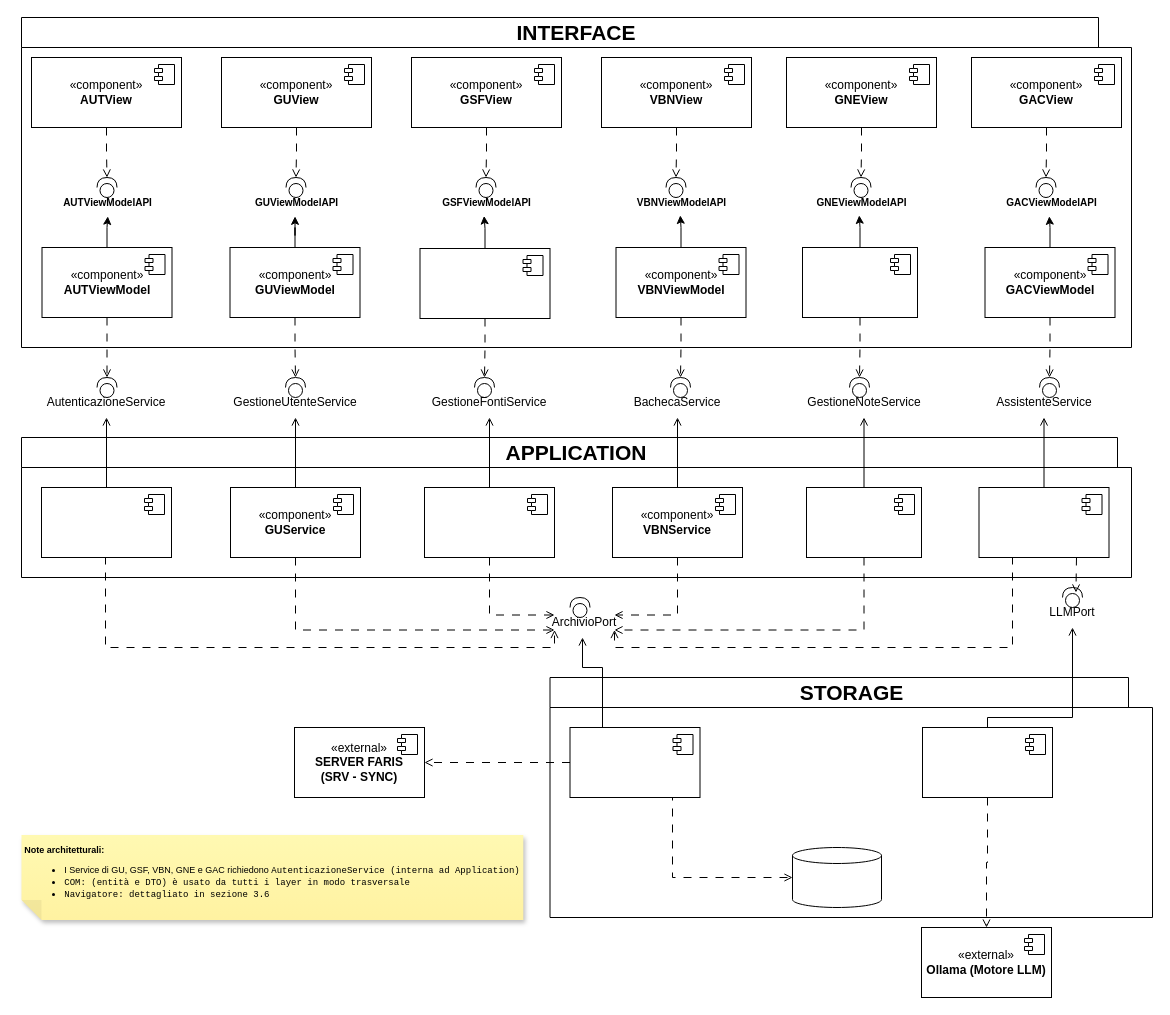
This 1170x1015 diagram has some shape labels left out. The shapes that lost their labels are listed below. From the top down, each one's centre as x and y in pixels, then its label:
At point (484, 283): "«component» GSFViewModel".
At point (860, 282): "«component» GNEViewModel".
At point (106, 522): "«component» AUTService".
At point (489, 522): "«component» GSFService".
At point (864, 522): "«component» GNEService".
At point (1043, 522): "«component» GACService".
At point (634, 762): "«adapter» ArchivioDAO (PER)".
At point (987, 762): "«adapter» DAO Assistente (adapter Ollama)".
At point (837, 877): "SQLite (copia locale)".
